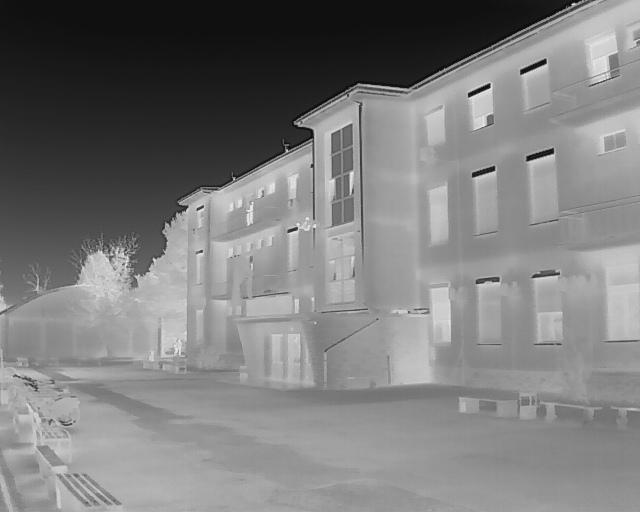drone: (290, 211, 324, 237)
